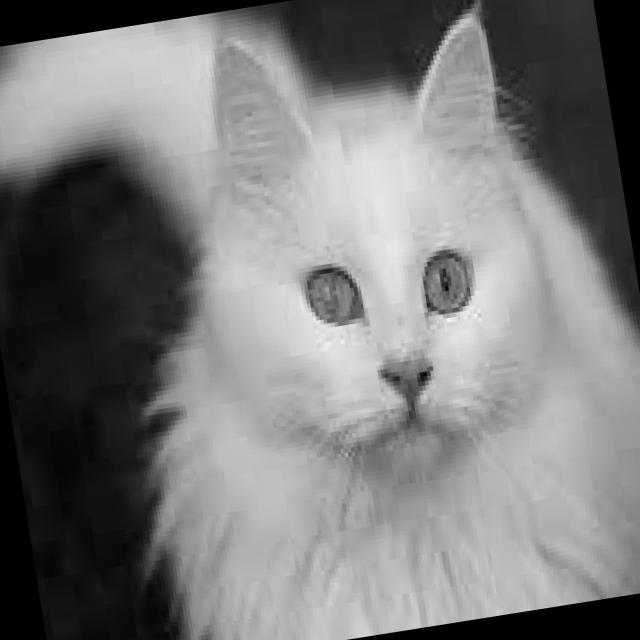van: (166, 0, 585, 528)
